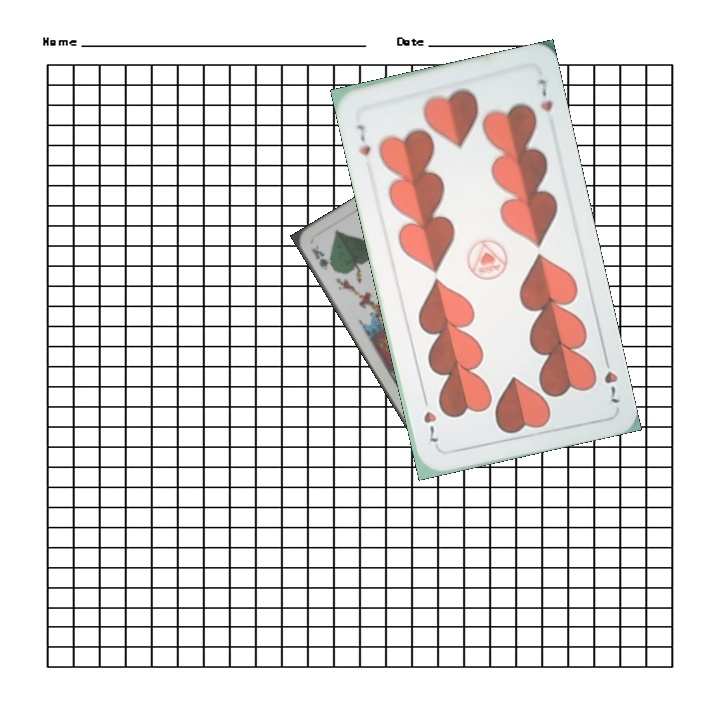GK: (307, 242, 337, 273)
H7: (599, 350, 622, 406), (353, 120, 374, 158)
